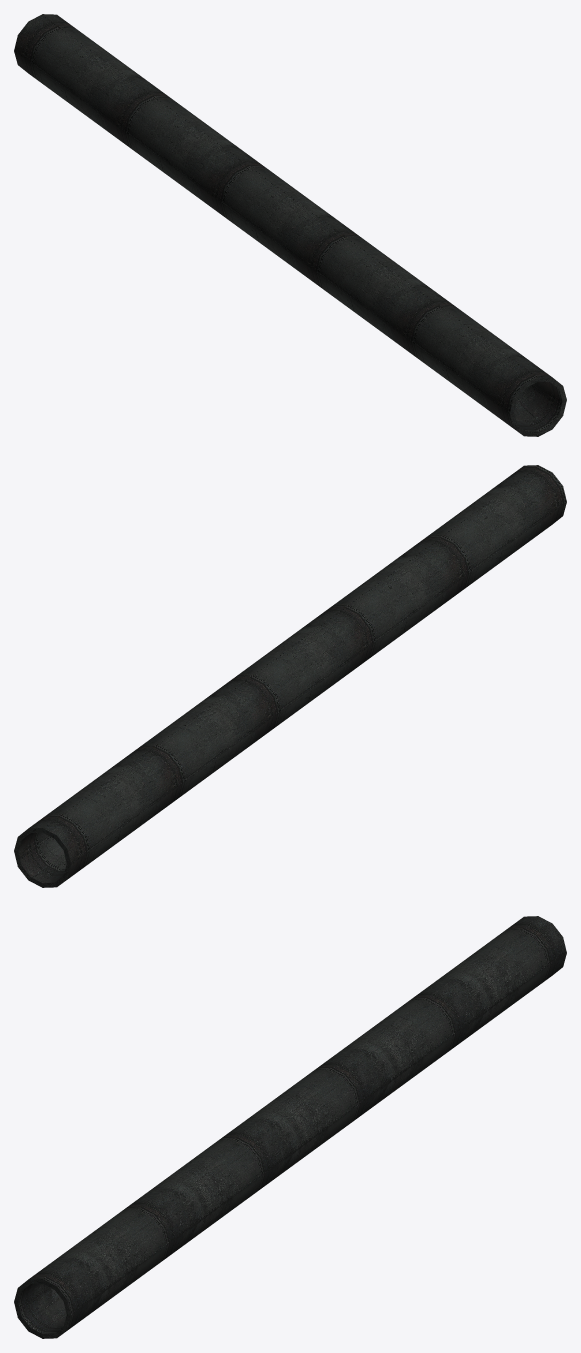
File: pipe_ax_1.glb
3 renders of one model, top to bottom at view 1: azimuth 30°, elevation 25°; view 2: azimuth 150°, elevation 25°; view 3: azimuth 330°, elevation 25°, orthographic.
Parts seen in each view (by area): view 1: pipe_ax_1; view 2: pipe_ax_1; view 3: pipe_ax_1.
Boxes of the visible parts, <box> form: pipe_ax_1: <box>14,14,566,436</box>; pipe_ax_1: <box>14,465,566,887</box>; pipe_ax_1: <box>14,916,566,1338</box>.
Bounding box in the file's own units: 0.5 × 0.5 × 7.5.
1 material, 1 textured.
